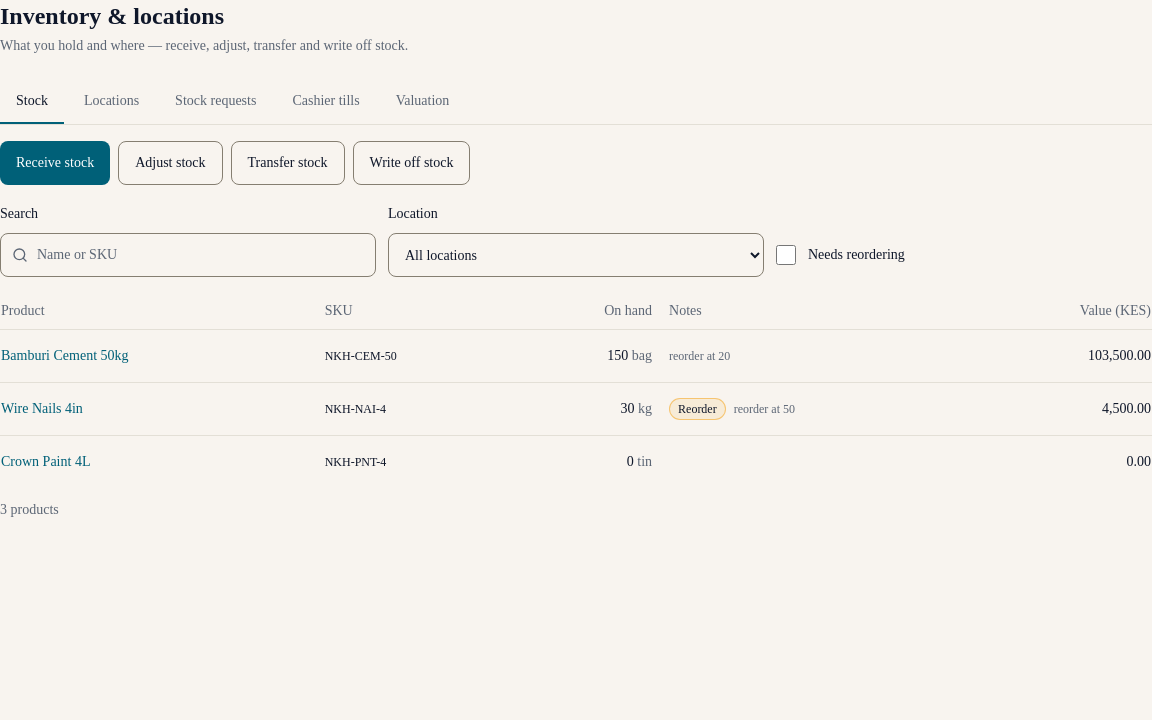
Test: moving stock › adjust down: an insufficient-stock refusal keeps the input; then a valid count posts
Expected: the table named "Stock" is shown, 0,293 -> 1151,488
Click the button "Wire Nails 4in".
click(42, 409)  # box 1,387 -> 83,431
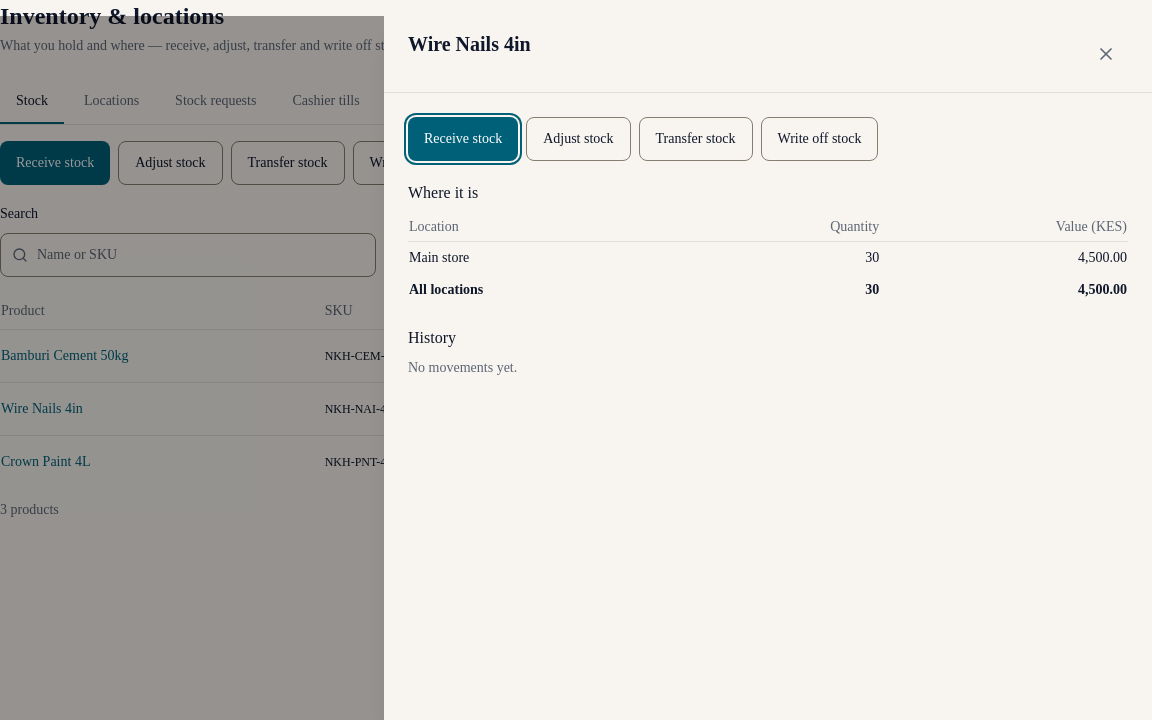
Click the button "Adjust stock".
click(578, 139)  # box 526,117 -> 630,161
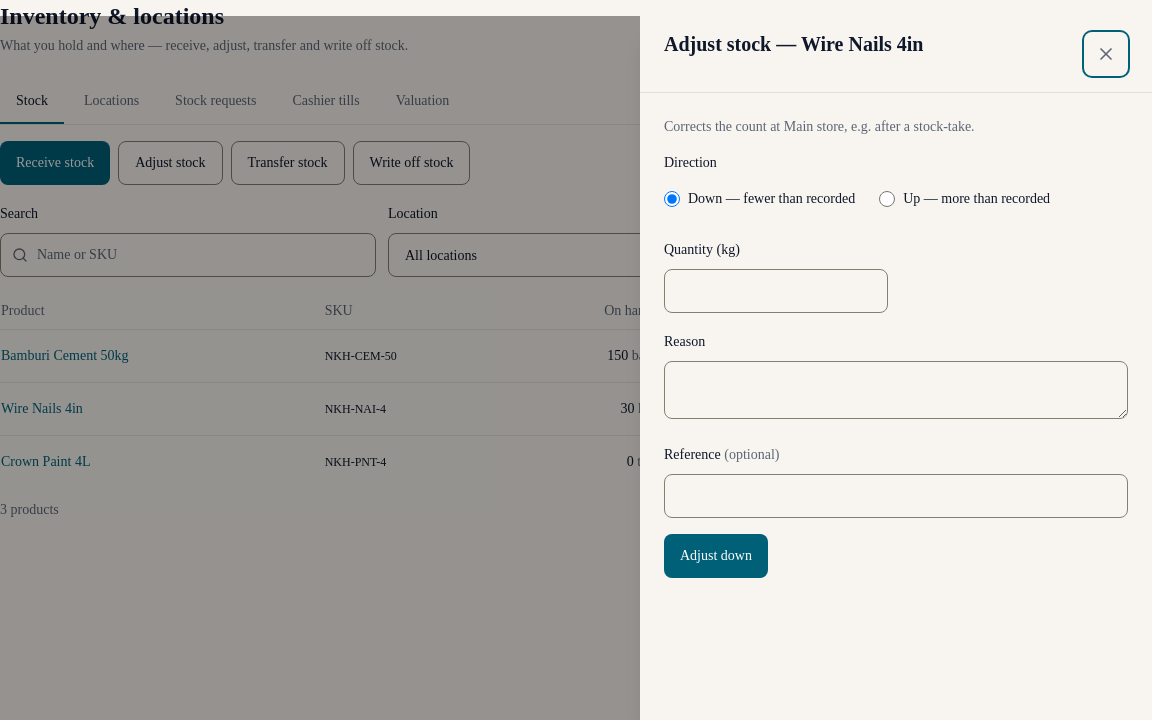
Type "45" into the field labelled "Quantity (kg)".
click(776, 291); type("45")  # box 664,269 -> 888,313
Click the button "Adjust down".
click(716, 556)  # box 664,534 -> 768,578
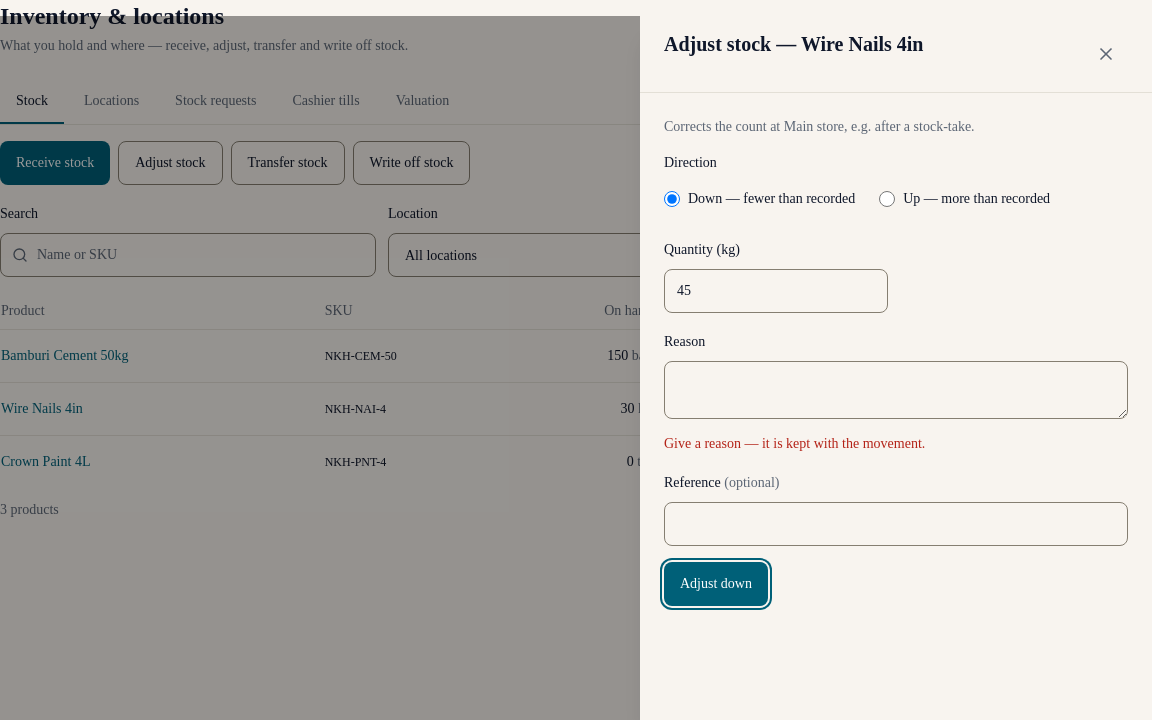
Expected: the text "Give a reason — it is kept with the movement." is shown, 664,436 -> 925,451
Type "Stock-take count" into the text box labelled "Reason".
click(896, 390); type("Stock-take count")  # box 664,361 -> 1128,419
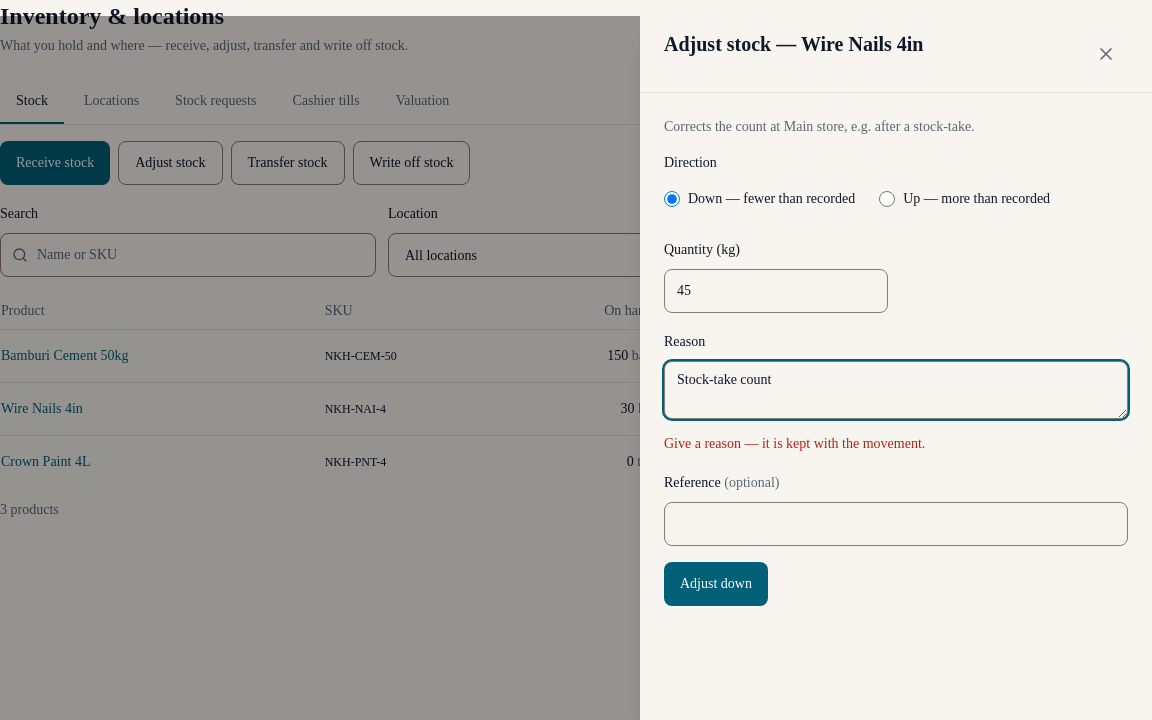
Click the button "Adjust down".
click(716, 584)  # box 664,562 -> 768,606
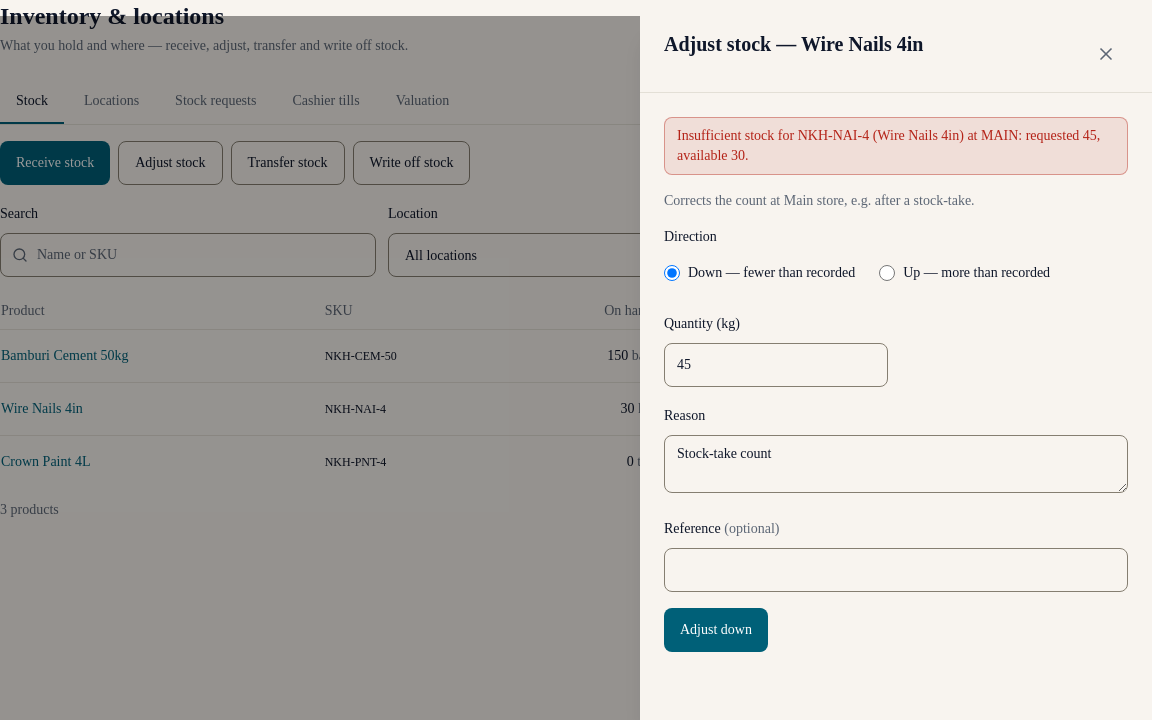
Expected: the message shows "Insufficient stock for NKH-NAI-4 (Wire Nails 4in) at MAIN: requested 45, available 30.", 677,128 -> 1100,163
Replace the text in the field labelled "Quantity (kg)" with "4.5" at (776, 365), box 664,343 -> 888,387
Click the button "Adjust down".
click(716, 630)  # box 664,608 -> 768,652
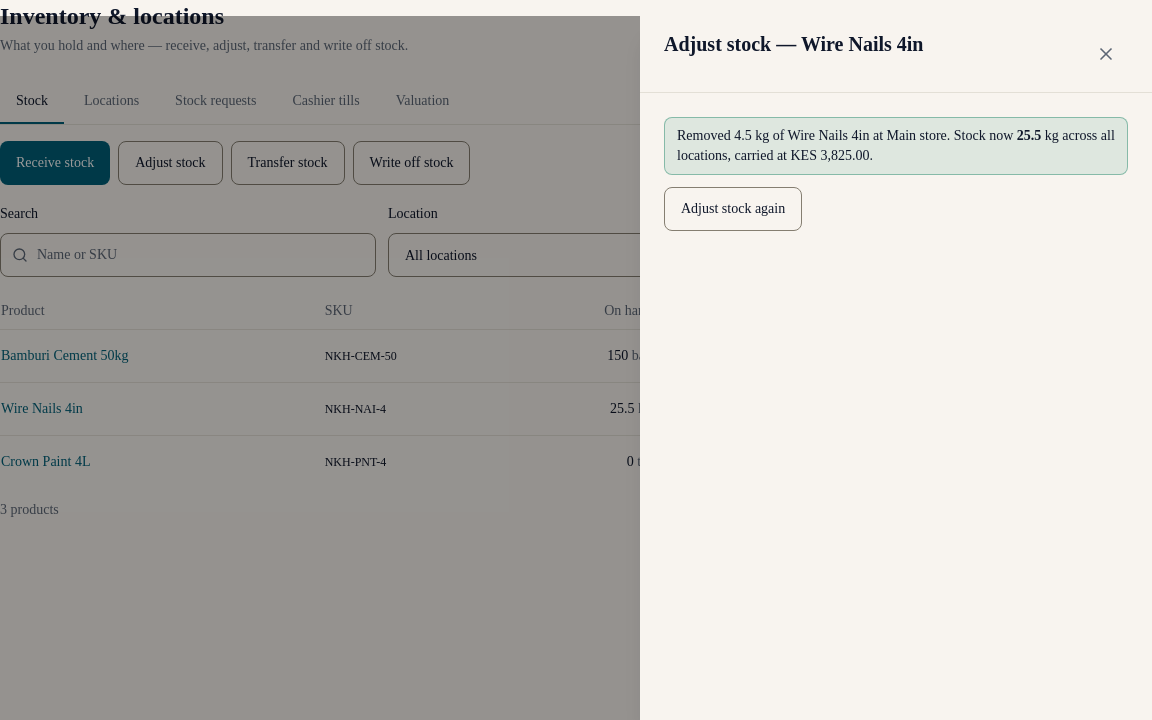
Expected: the message shows "Removed 4.5 kg of Wire Nails 4in at Main store. Stock now 25.5 kg", 664,117 -> 1128,175
